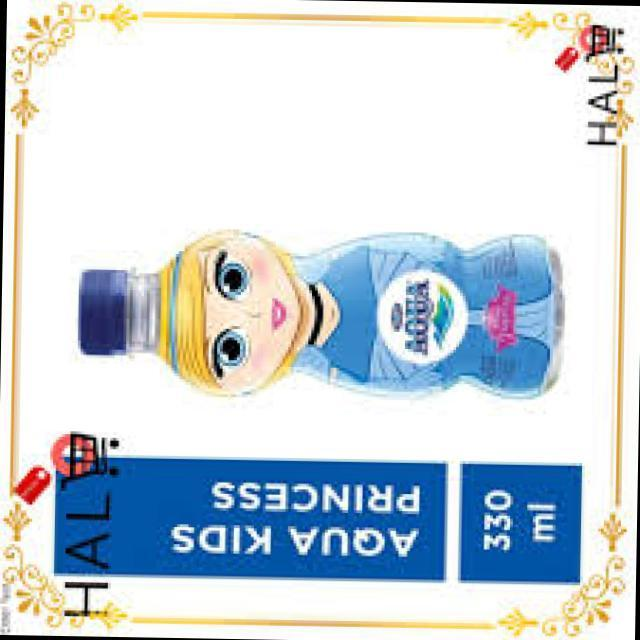good: (64, 190, 568, 422)
